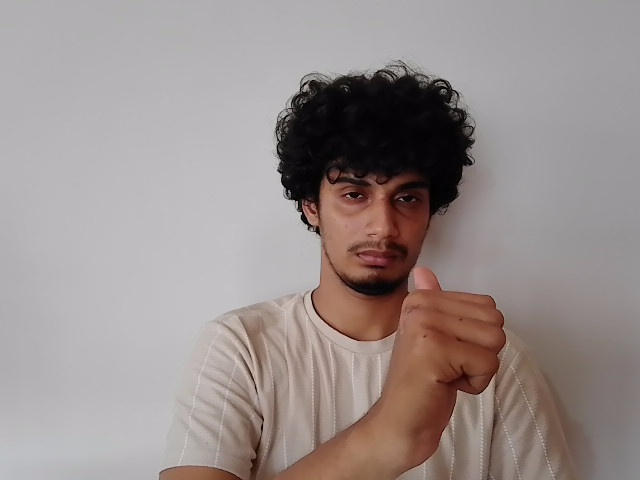how: (393, 262, 510, 459)
